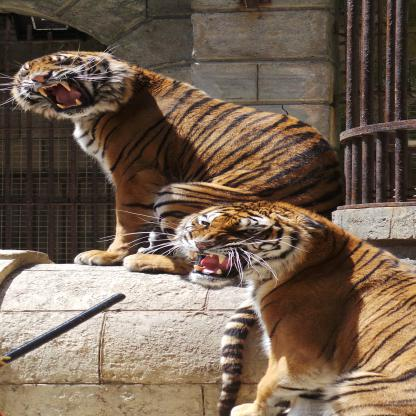Panthera tigris: (10, 50, 340, 275), (172, 200, 416, 416)
